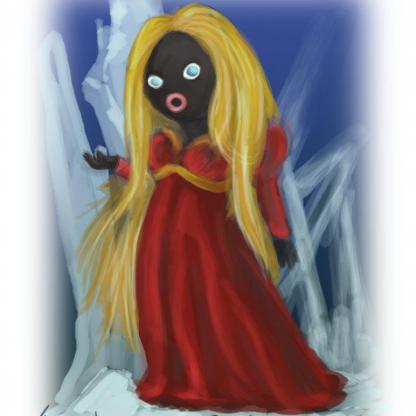Jynx: (34, 40, 416, 416)
